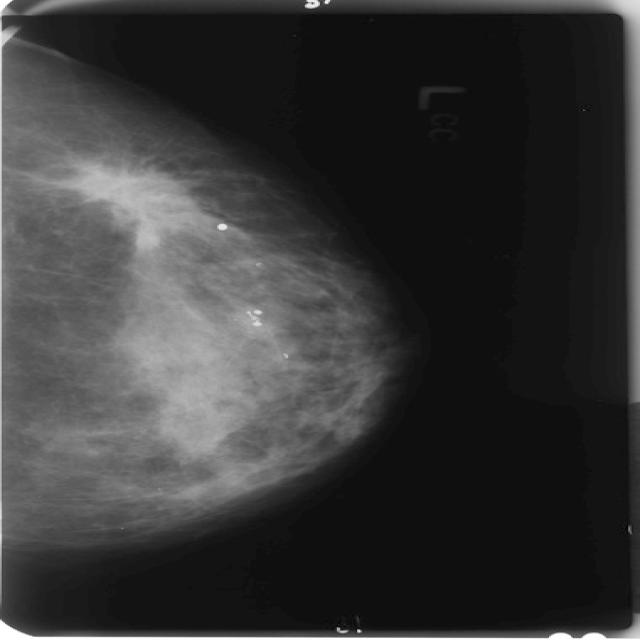tumour: (64, 160, 195, 230)
